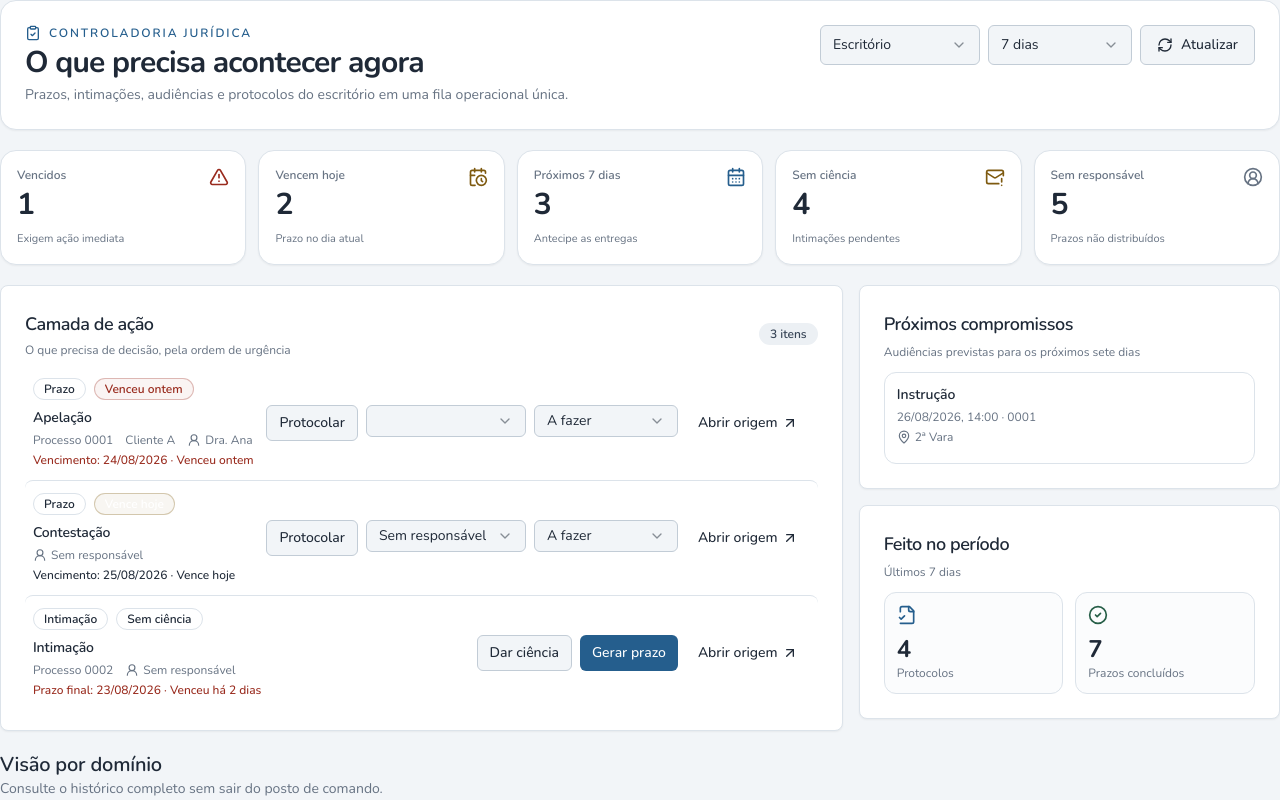
Test: Controladoria › filtra a lista ao clicar em um contador, sem trocar de tela
The image size is (1280, 800).
Click the button "Vencidos 1 Exigem ação imediata". click: (123, 207)
box: [0, 150, 246, 264]
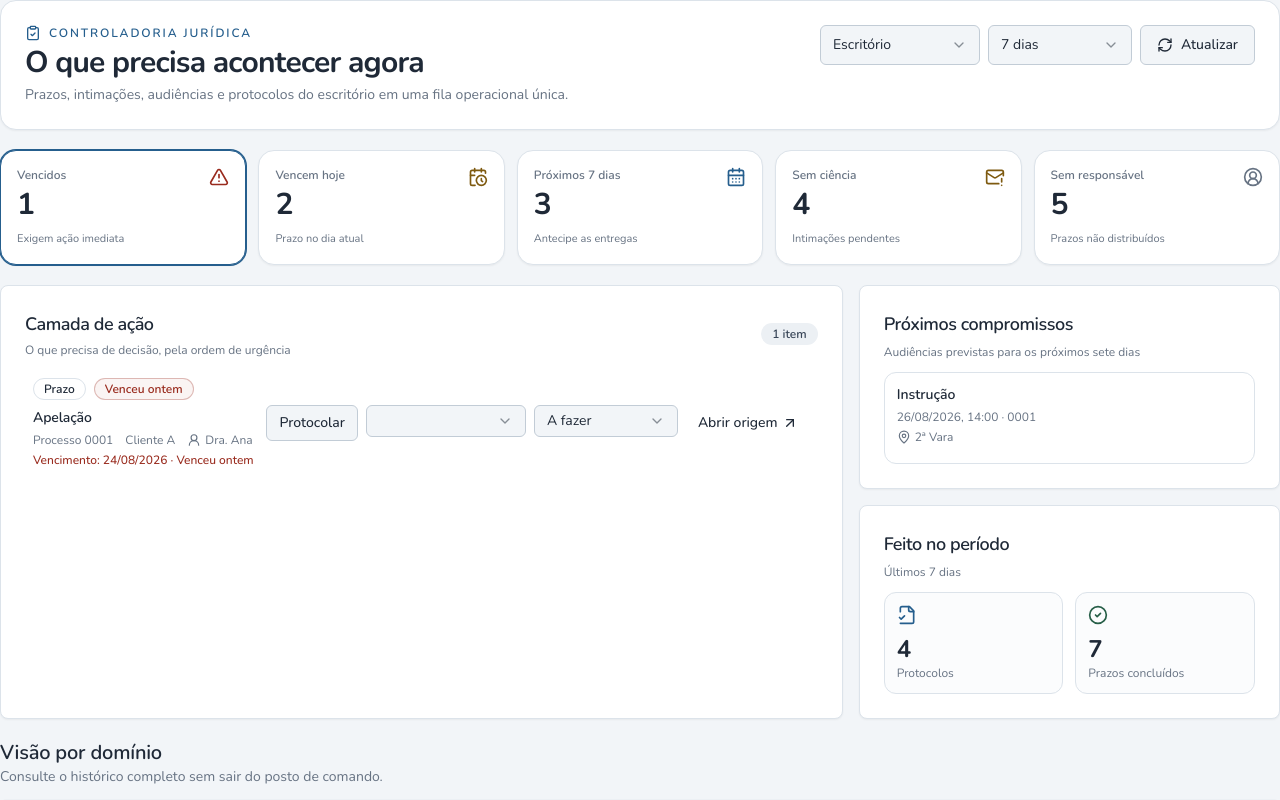
Check: the heading "Apelação" is shown, box [33, 408, 92, 426]
Check: the link "Contestação" is gone
